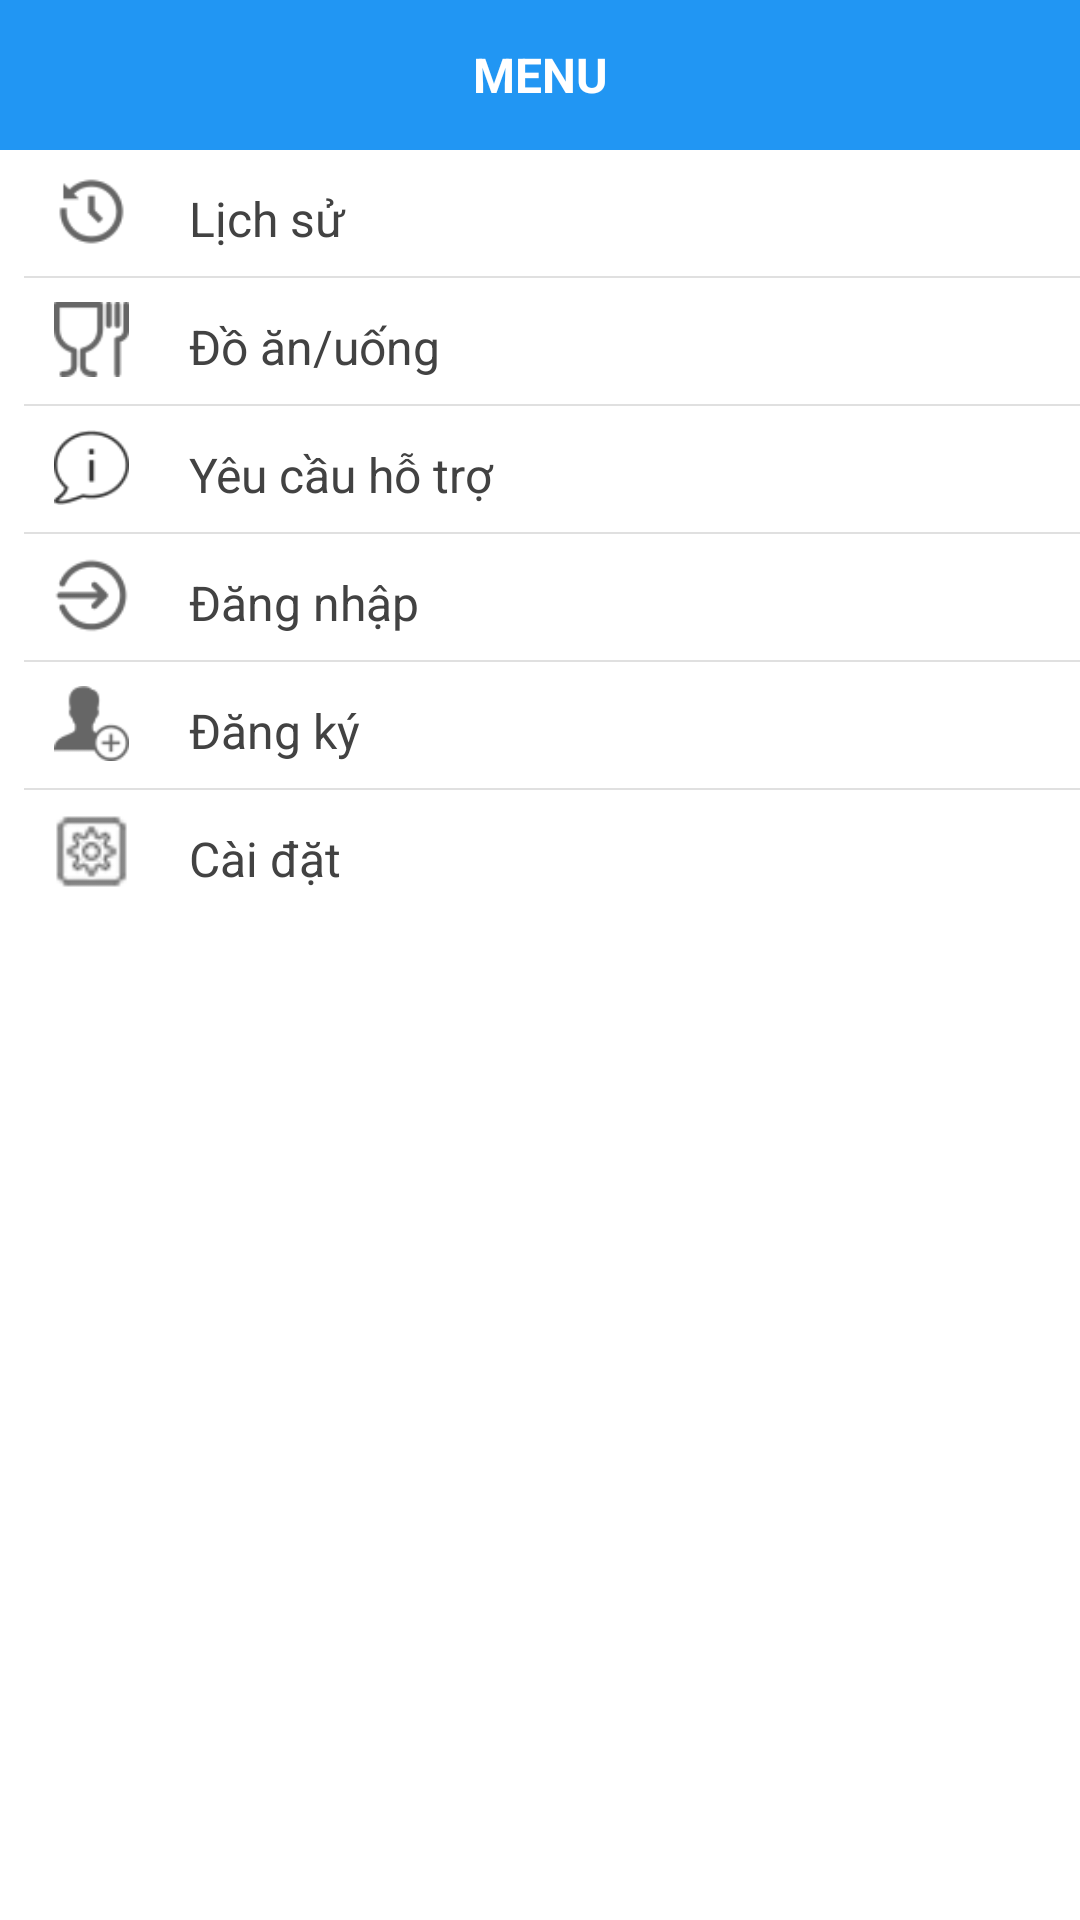

Named icons in this screenshot (1080px x 1920px) and their bounding boxes, (x1, y1, x2, y2):
food: (54, 302, 129, 377)
help: (54, 430, 129, 505)
history: (59, 179, 124, 244)
login: (56, 560, 127, 631)
register: (54, 686, 129, 761)
setting: (56, 816, 127, 887)
